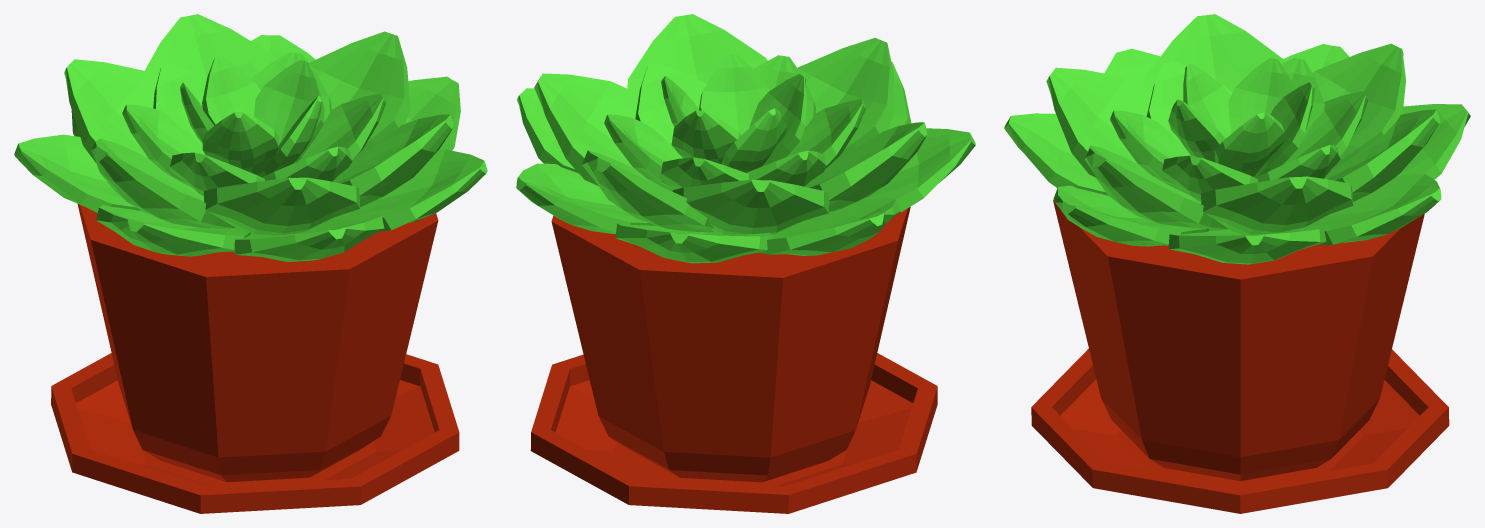
Rendered from Plant.fbx.
The picture shows the model from 3 angles, left to right: view 1: azimuth 30°, elevation 25°; view 2: azimuth 150°, elevation 25°; view 3: azimuth 270°, elevation 25°; orthographic projection.
Parts seen in each view (by area): view 1: Pot; view 2: Pot; view 3: Pot.
Boxes of the visible parts, x1,y1,x2,y2 form: Pot: (14, 14, 487, 513); Pot: (516, 14, 975, 513); Pot: (1004, 14, 1470, 513).
Size of the model in its own units: 56.9 by 49 by 57.61.
